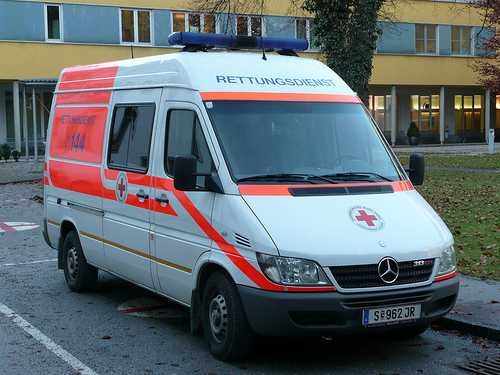Ambulance: (44, 26, 466, 369)
